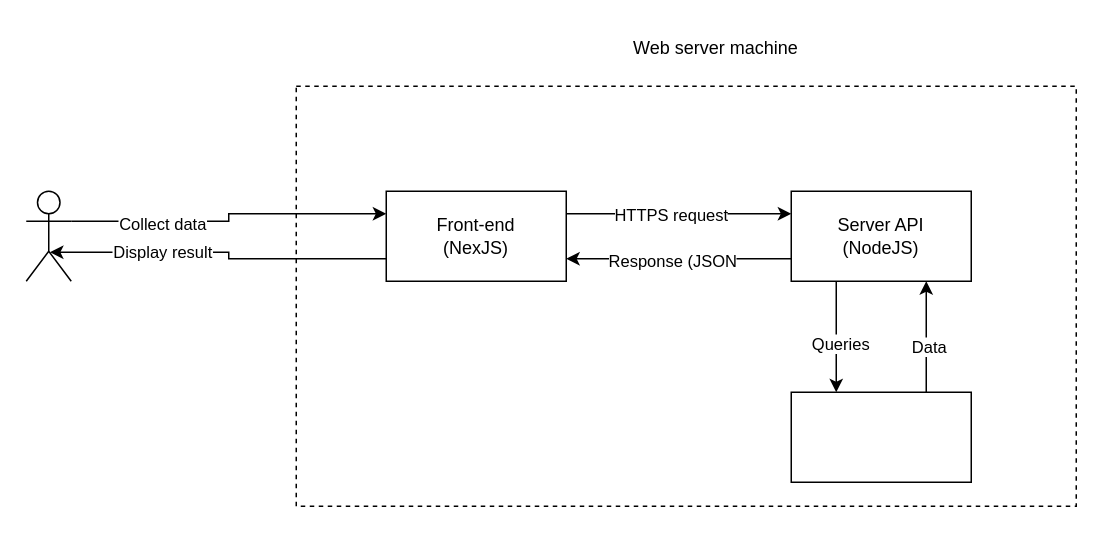
The diagram is 1103 pixels wide and 533 high, and some of its shapes have lost their labels. The centre of each missing label's shape, as x and y in pixels:
"MySQL database" goes at (x=880, y=436).
"User" goes at (x=48, y=235).
